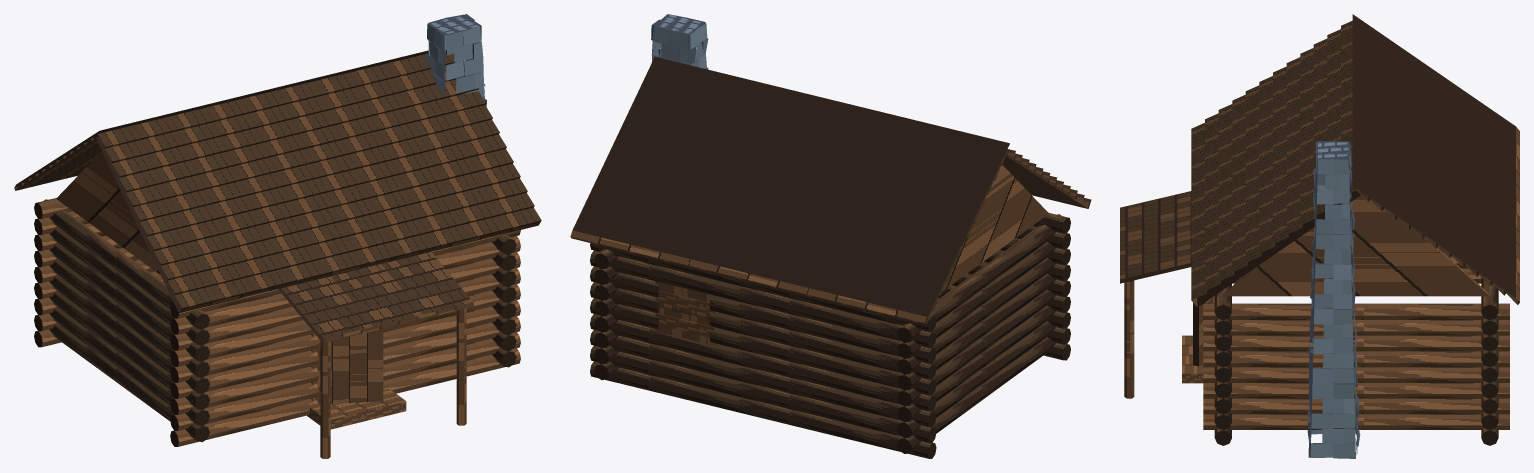
File: MAD-01_Cabana_de_troncos.gltf
The picture shows the model from 3 angles, left to right: view 1: azimuth 30°, elevation 25°; view 2: azimuth 150°, elevation 25°; view 3: azimuth 270°, elevation 25°; orthographic projection. The views are drawn at different scales.
Parts seen in each view (by area): view 1: MAD-01_Cabana_de_troncos-col; view 2: MAD-01_Cabana_de_troncos-col; view 3: MAD-01_Cabana_de_troncos-col.
Part boxes in pixels (box(x1,y1,x2,y2)): MAD-01_Cabana_de_troncos-col: box(14, 14, 541, 458); MAD-01_Cabana_de_troncos-col: box(570, 14, 1091, 458); MAD-01_Cabana_de_troncos-col: box(1120, 14, 1519, 458).
Size of the model in its own units: 6.42 by 4.85 by 6.
1 material, 1 textured.
